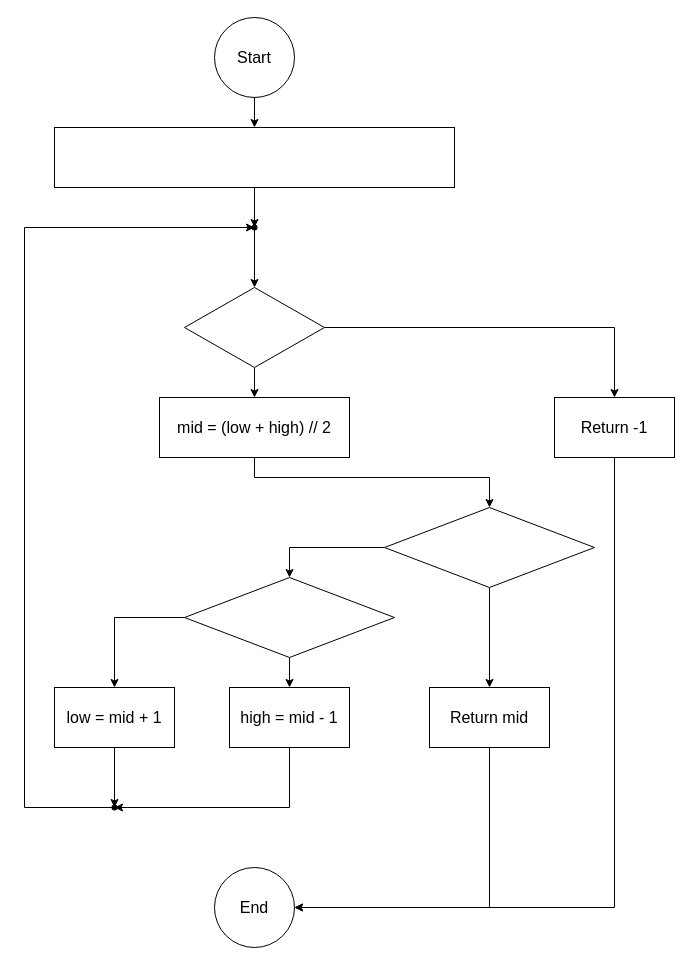
The diagram is 692 pixels wide and 965 high, and some of its shapes have lost their labels. Here are the shapes that lost their labels. From the top down, the box of each, then its label:
(54, 126, 454, 188): low = 0, high = (length of array Arr) - 1
(184, 286, 324, 368): high >= low
(384, 506, 594, 588): Arr[mid] == target
(184, 576, 394, 658): Arr[mid] > target
